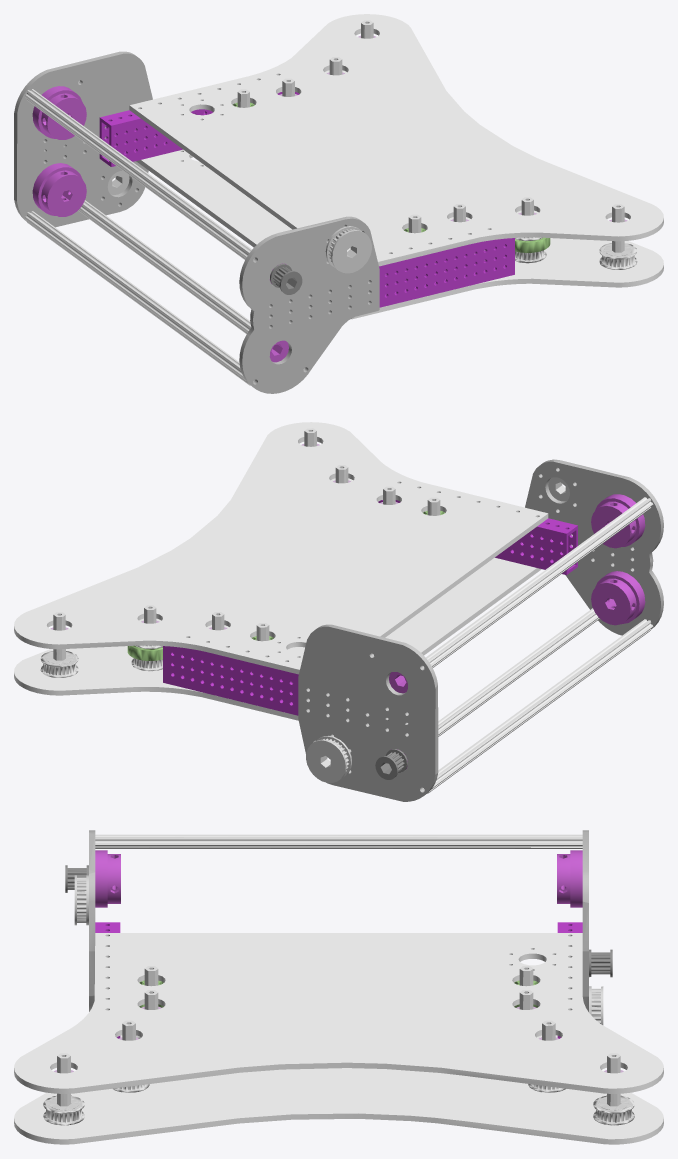
File: Shooter.dae
The picture shows the model from 3 angles, top to bottom: view 1: azimuth 30°, elevation 25°; view 2: azimuth 150°, elevation 25°; view 3: azimuth 270°, elevation 25°; orthographic projection. The views are drawn at different scales.
Parts seen in each view (by area): view 1: 0401 - Placa Ian.002; view 2: 0401 - Placa Ian.002; view 3: 0401 - Placa Ian.002.
Part boxes in pixels (box(x1,y1,x2,y2)): 0401 - Placa Ian.002: box(14, 14, 663, 393); 0401 - Placa Ian.002: box(14, 422, 663, 801); 0401 - Placa Ian.002: box(14, 830, 663, 1144).
Size of the model in its own units: 0.5194 by 0.6605 by 0.1936.
